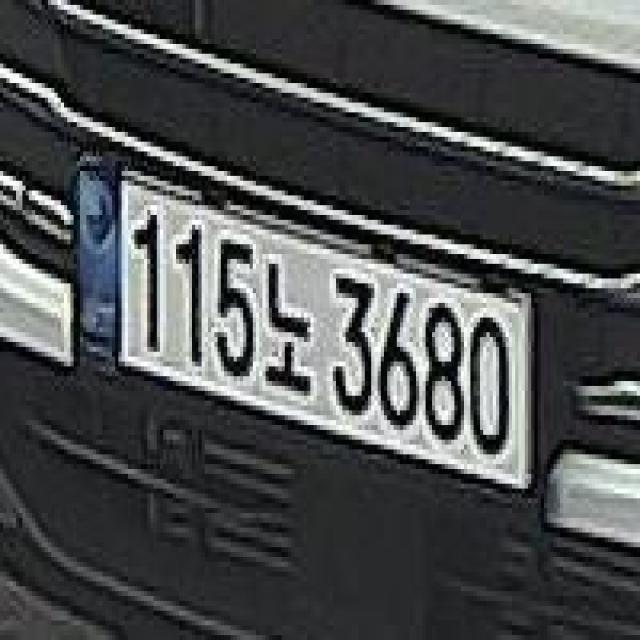illegal_plate: (73, 152, 543, 508)
